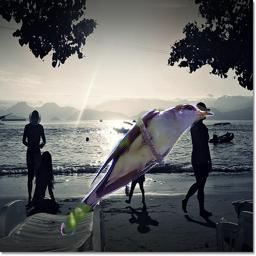Cuckoo: (61, 103, 214, 235)
